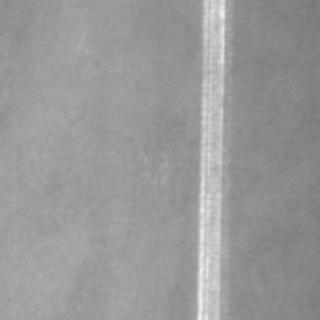scratches: (192, 0, 228, 316)
